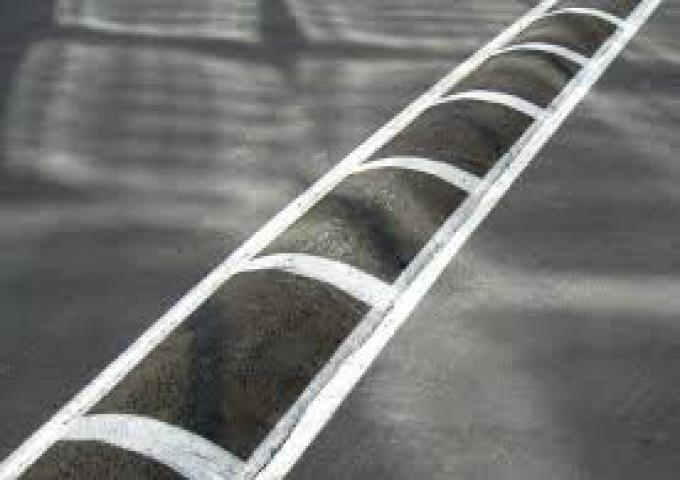speedbreaker: (37, 0, 674, 477)
